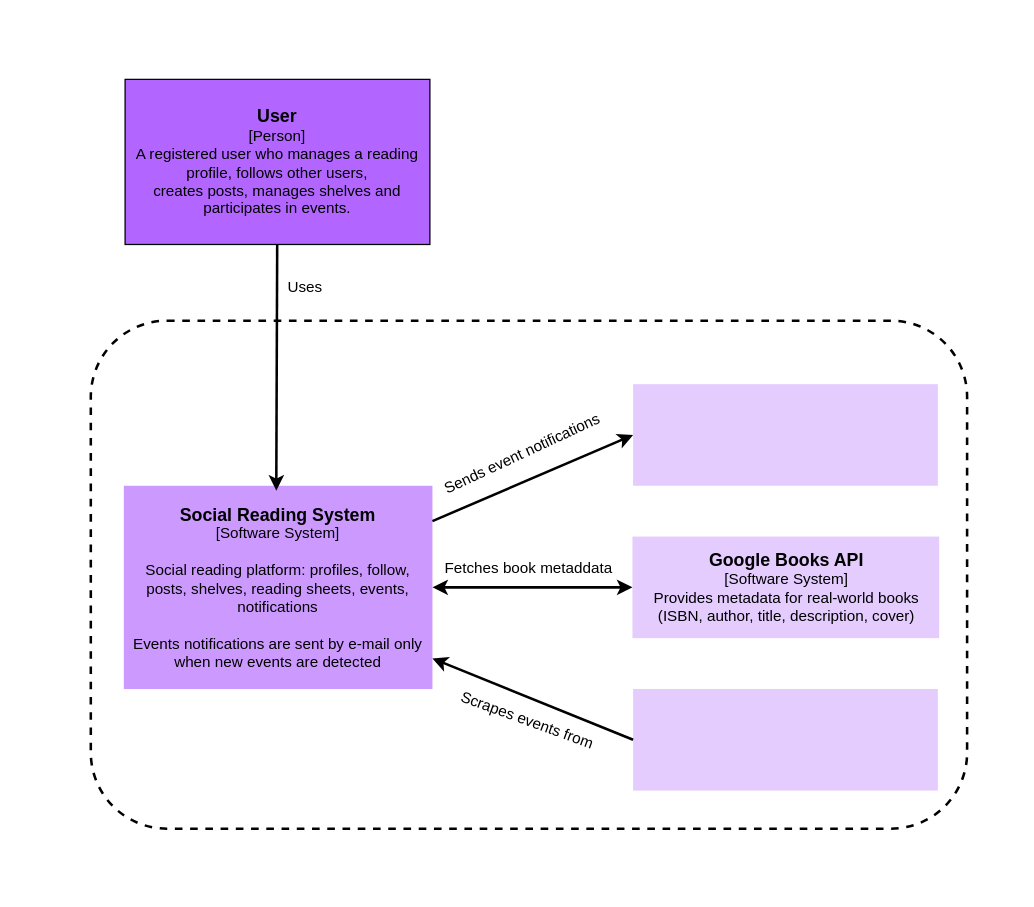
This 1034x907 diagram has some shape labels left out. The box of each missing label's shape, as (x1, y1, x2, y2) in pixels:
E-mail Service [Software System] Sends e-mails to user about new events: (632, 384, 937, 485)
Event Source Websites [Software System] Public websites that publish events: (632, 688, 937, 790)
